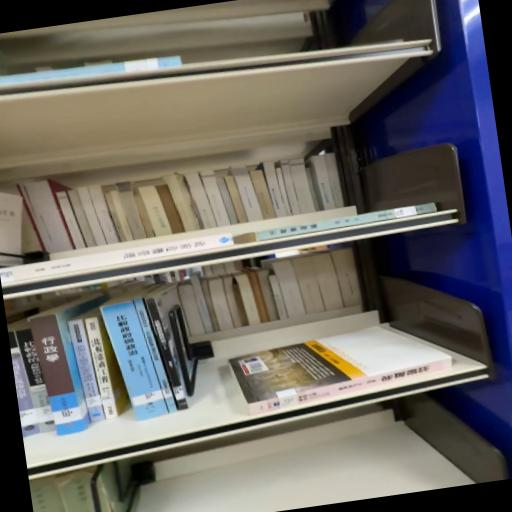flat: (229, 327, 453, 415), (1, 234, 235, 285), (235, 204, 438, 245)
